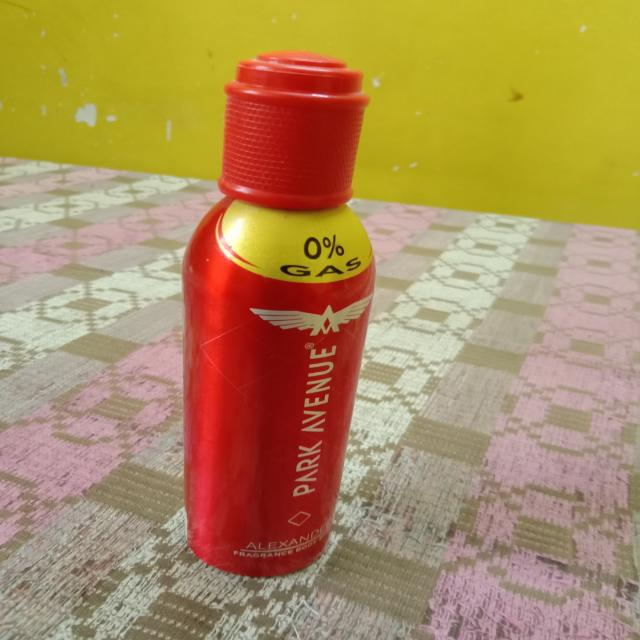deodorant: (183, 51, 363, 580)
